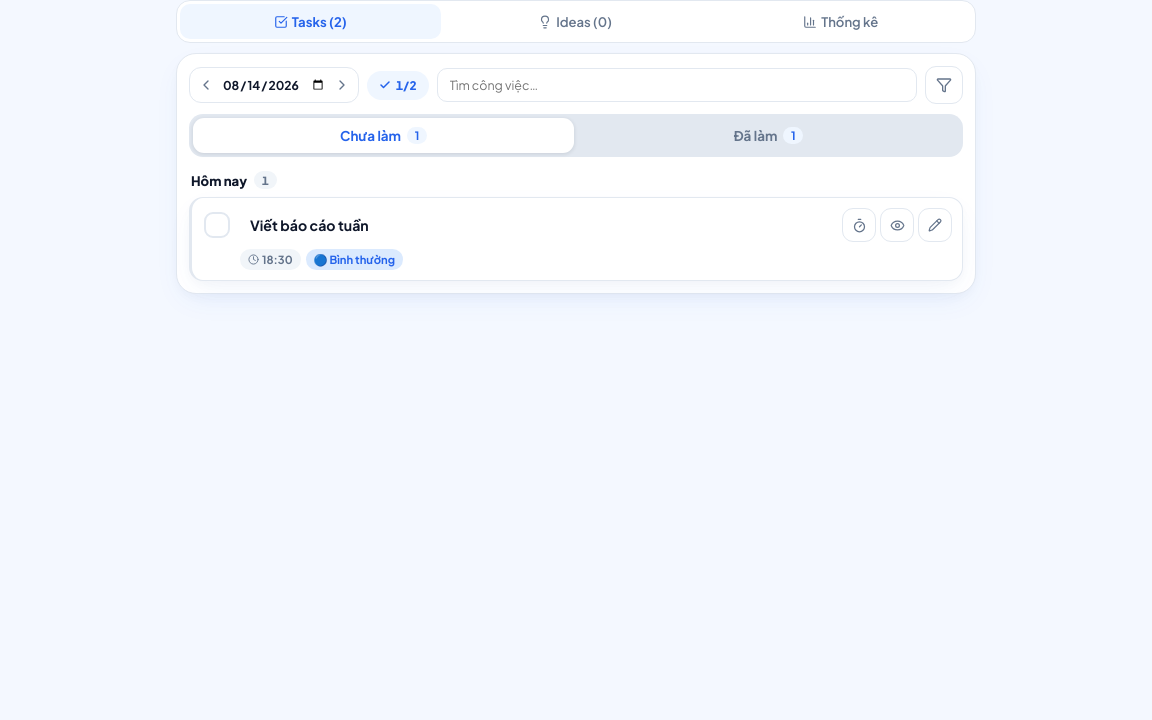
Test: TasksPage postpone › blocks confirming when the custom input is not a positive number
Click the button named "Postpone task" at (859, 225), box [842,208,876,242]
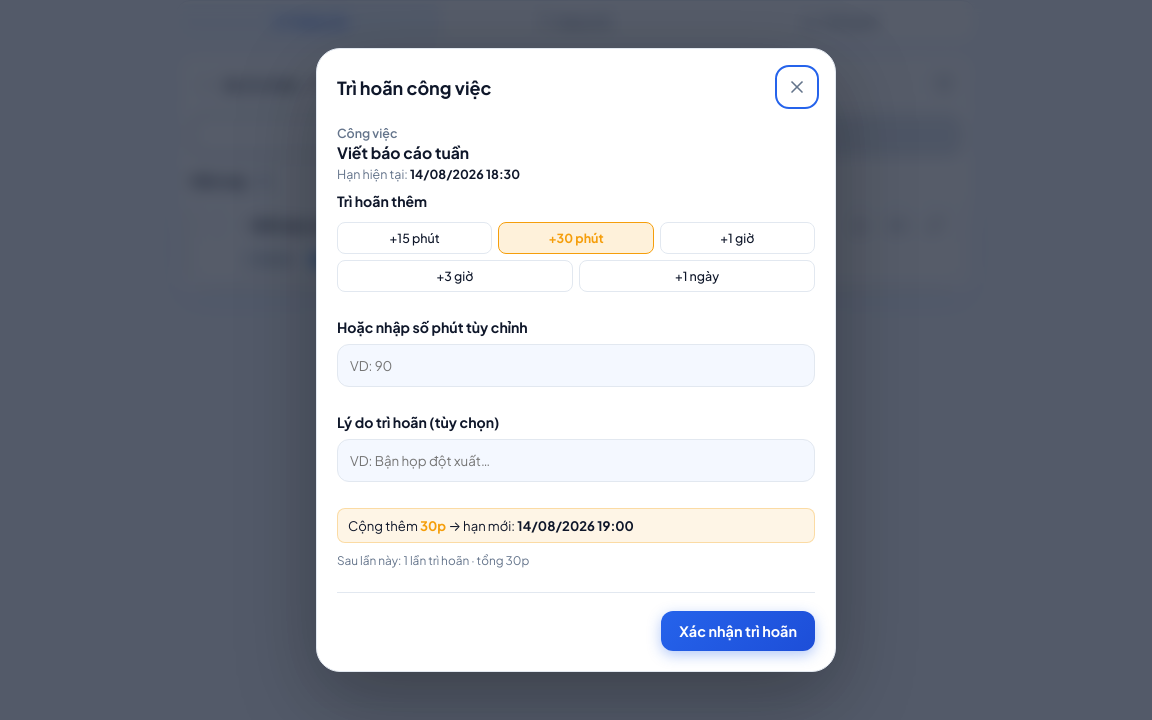
Type "0" into the number field with placeholder "VD: 90" at (576, 366), box [337,344,815,387]
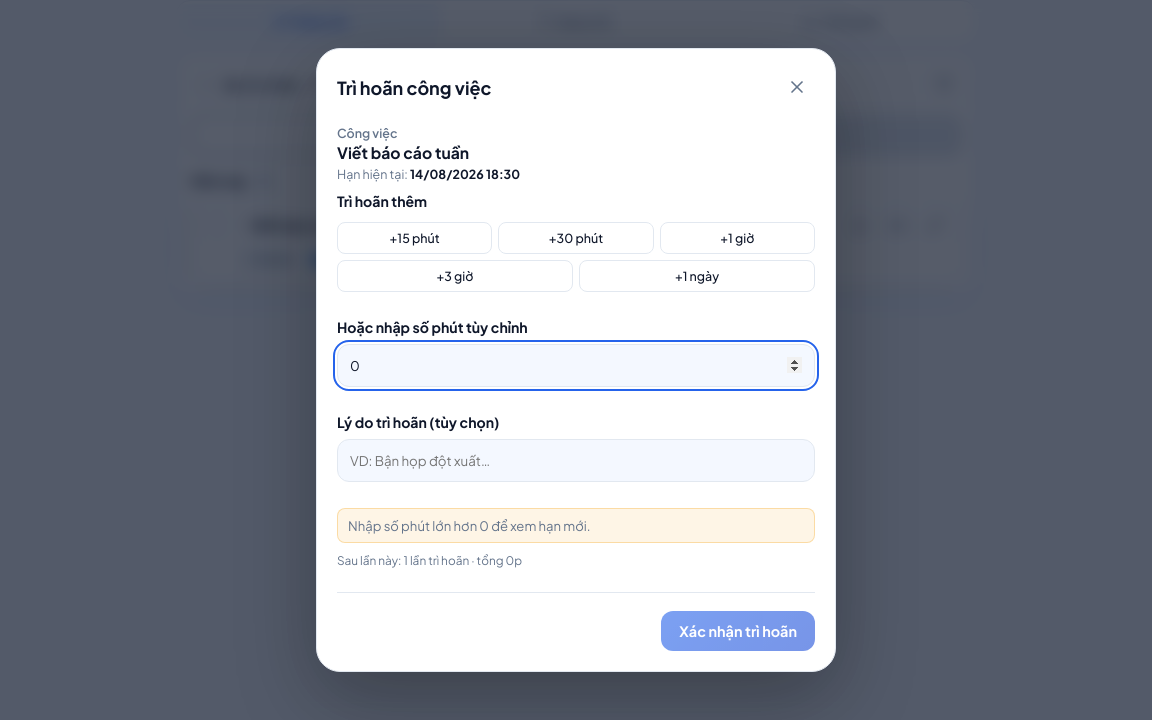
Now the button "Xác nhận trì hoãn" is disabled, box [661,611,815,651]
